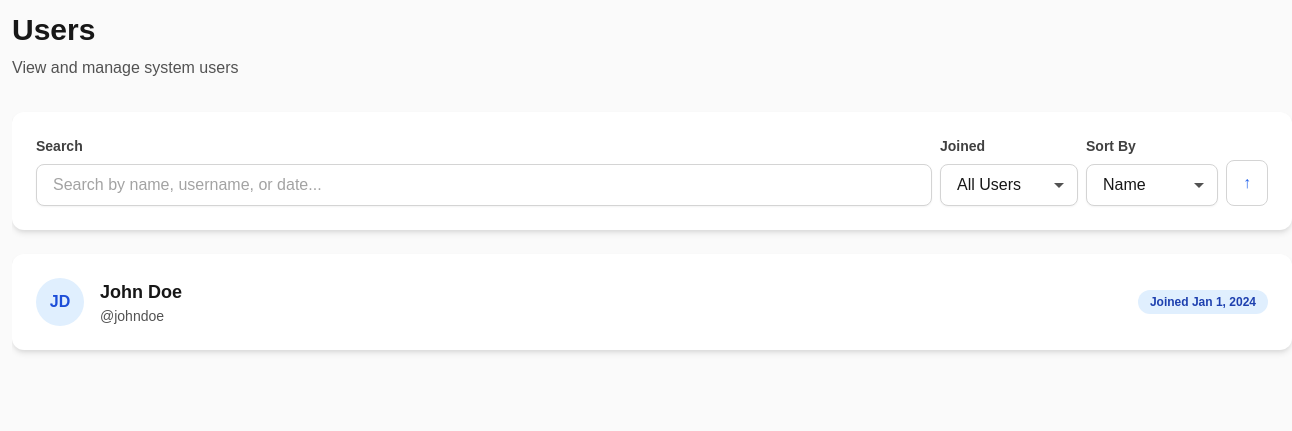
Test: UserList Page › should show "No users found" when no results match
Expected: the heading "John Doe" is shown, [100, 278, 182, 306]
In the field with placeholder "Search by name, username, or date...": (484, 185) [36, 164, 932, 206], type "NonExistentUser"
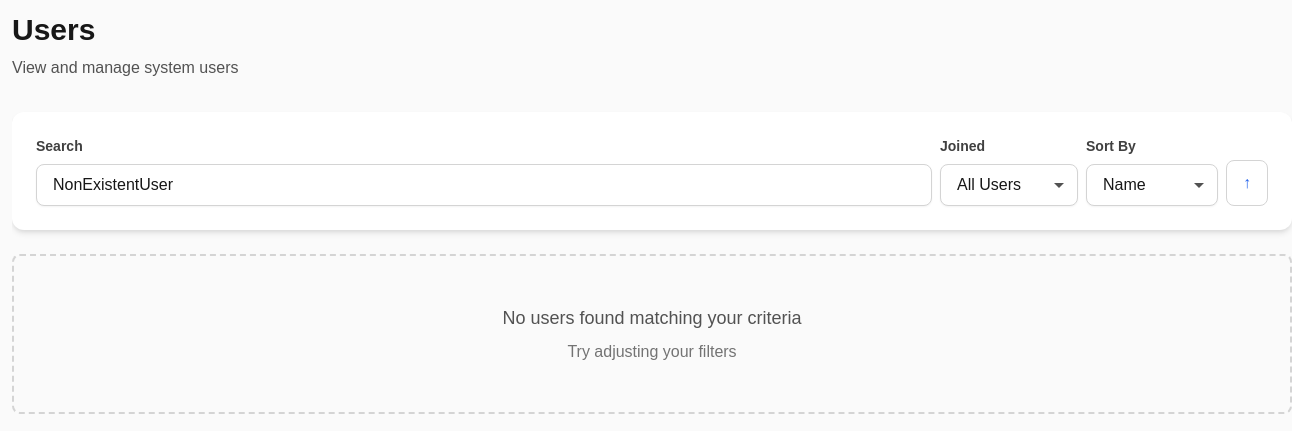
Now the text "No users found matching your criteria" is shown, box [502, 308, 802, 328]
